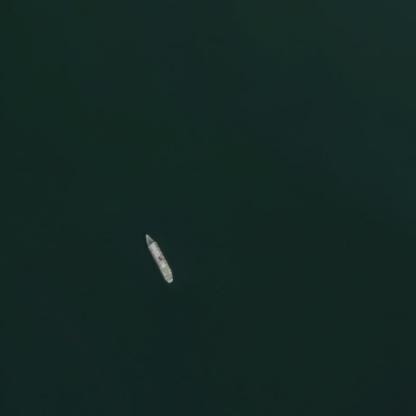ship: (141, 230, 176, 284)
